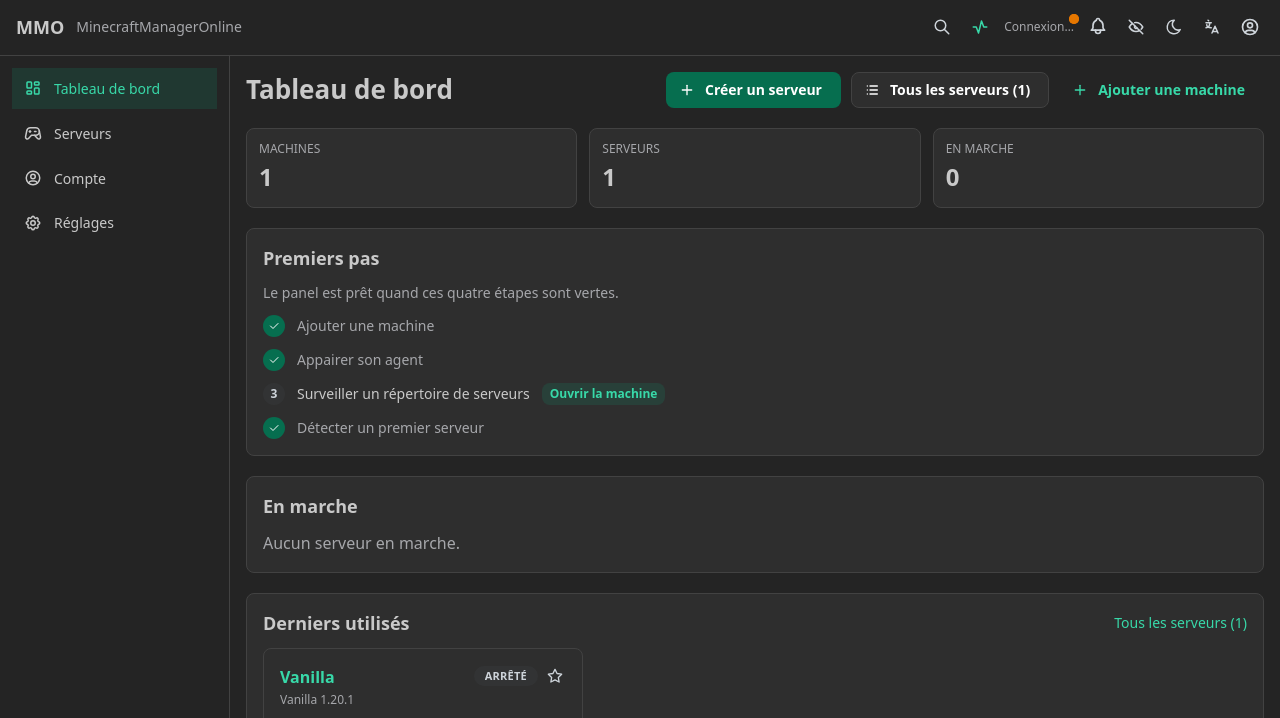
Test: App › bascule de langue : l’interface passe en anglais
Expected: the heading "Tableau de bord" is shown, 246,72 -> 453,108
Click the button with test id "lang-menu": point(1212, 28) 1198,14 -> 1226,42
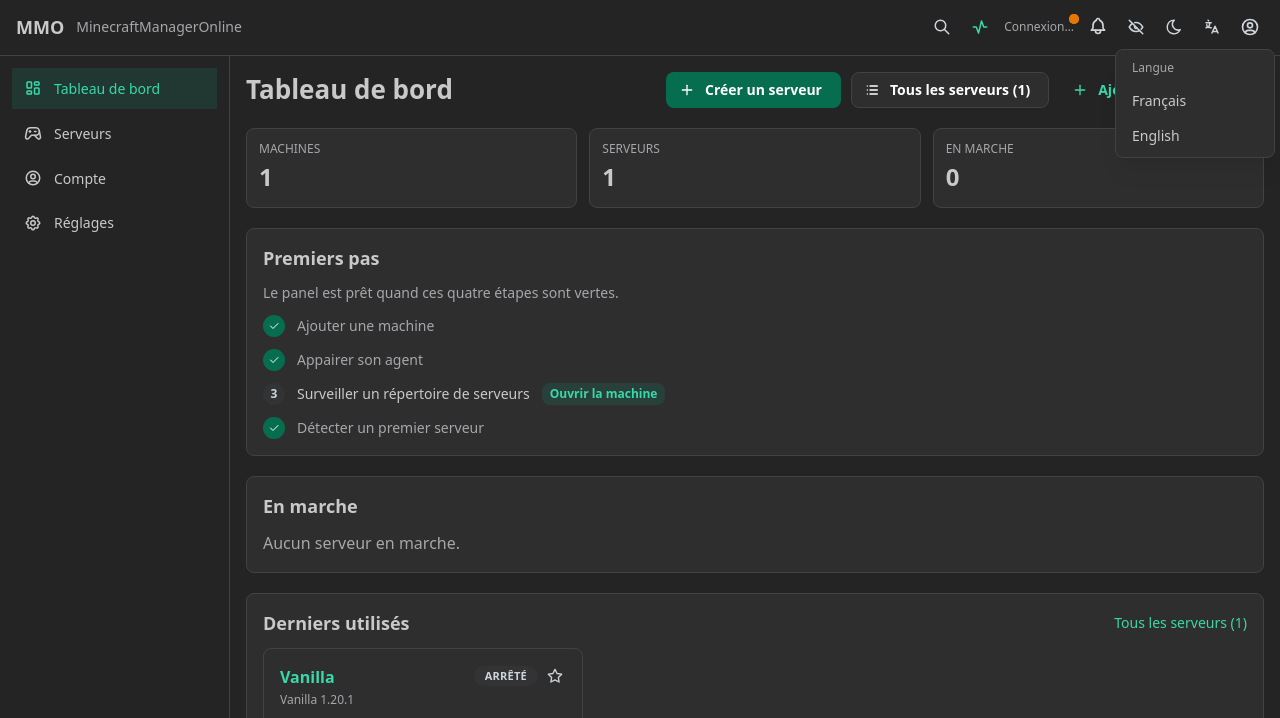
Click the menu item with test id "lang-en": point(1195, 136) 1120,118 -> 1270,153
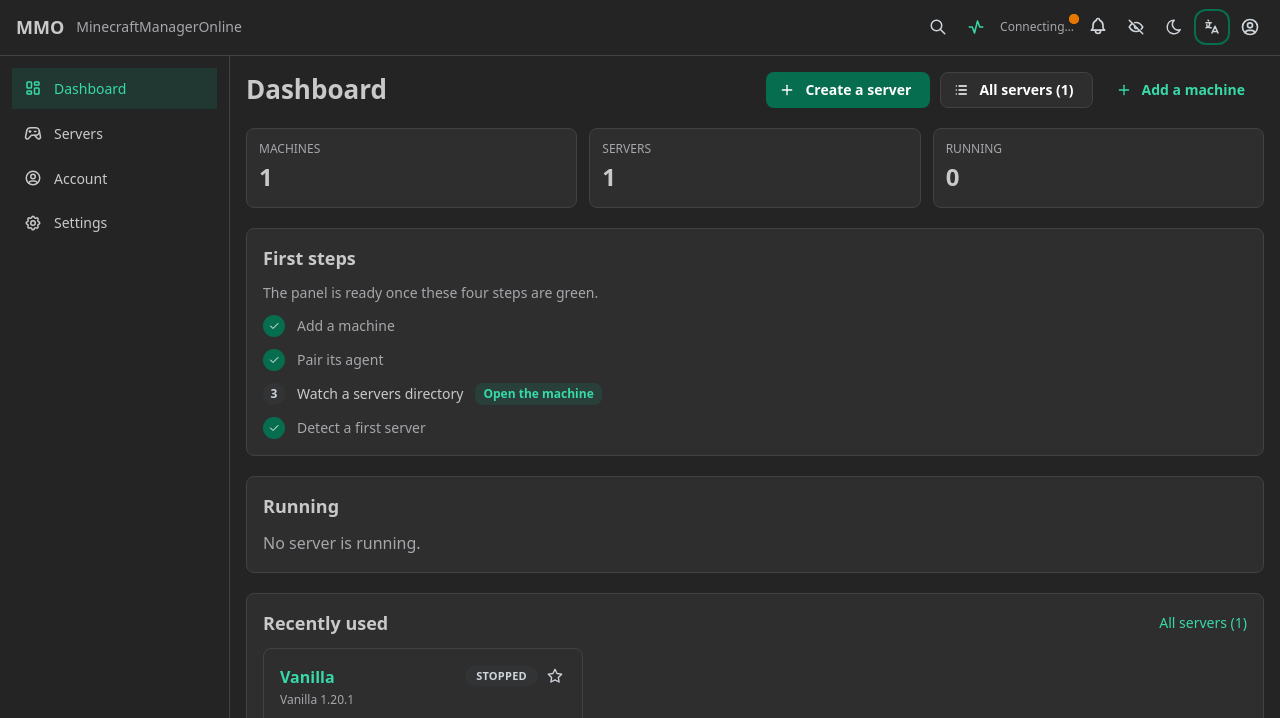
Expected: the heading "Dashboard" is shown, 246,72 -> 387,108
